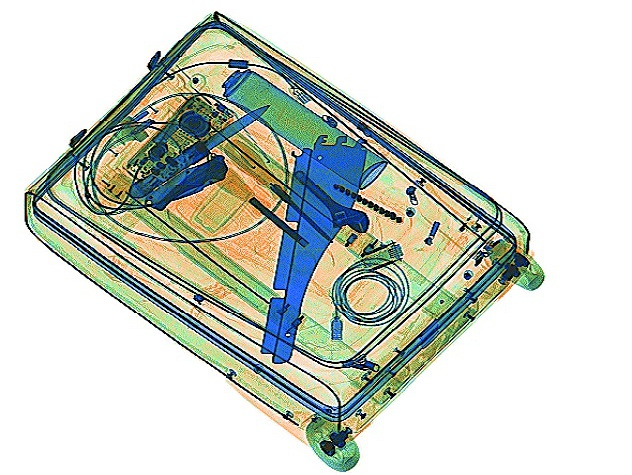knife: (128, 102, 270, 195), (142, 155, 230, 210)
pressure: (212, 61, 386, 186)
